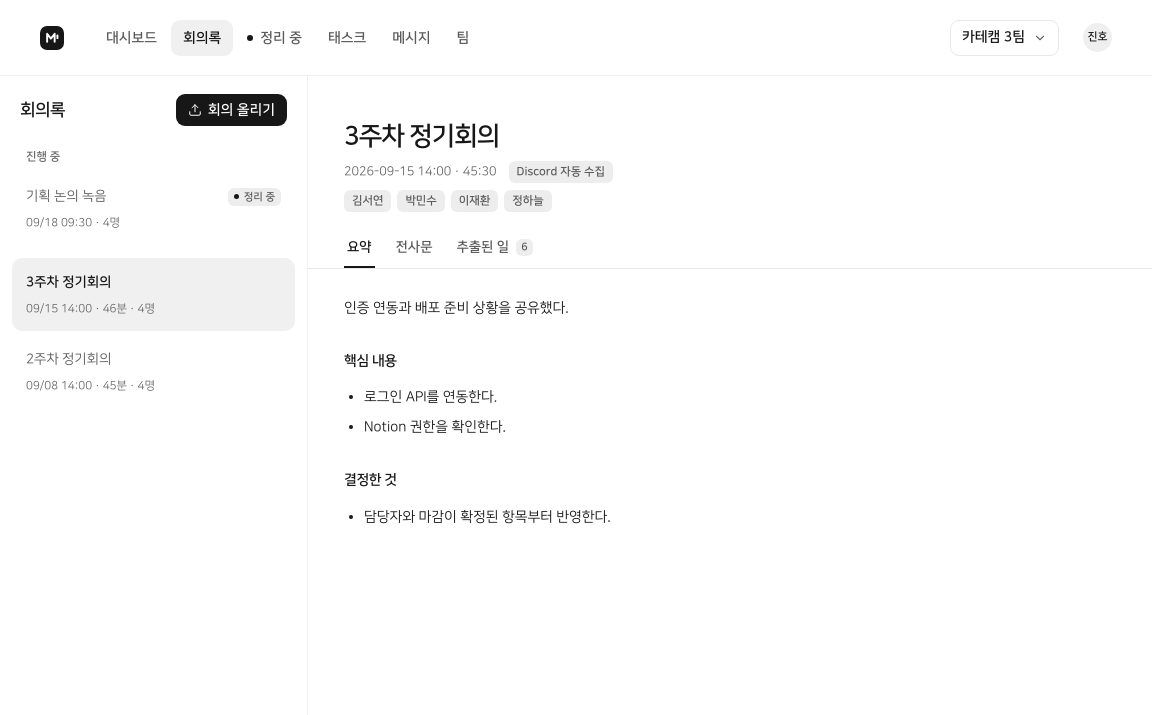
회의록 상세 (U5-3) › 제목·날짜·참석자·출처·요약·전사문·반영 태스크를 보인다
Expected: the heading "3주차 정기회의" is shown, [344,122,499,151]
Expected: the text "2026-09-15 14:00 · 45:30" is shown, [344,161,497,182]
What coordinates should you click on to do the following:
click the tab "전사문"
I would click on:
 (414, 249)
Its box is [393,230,436,268].
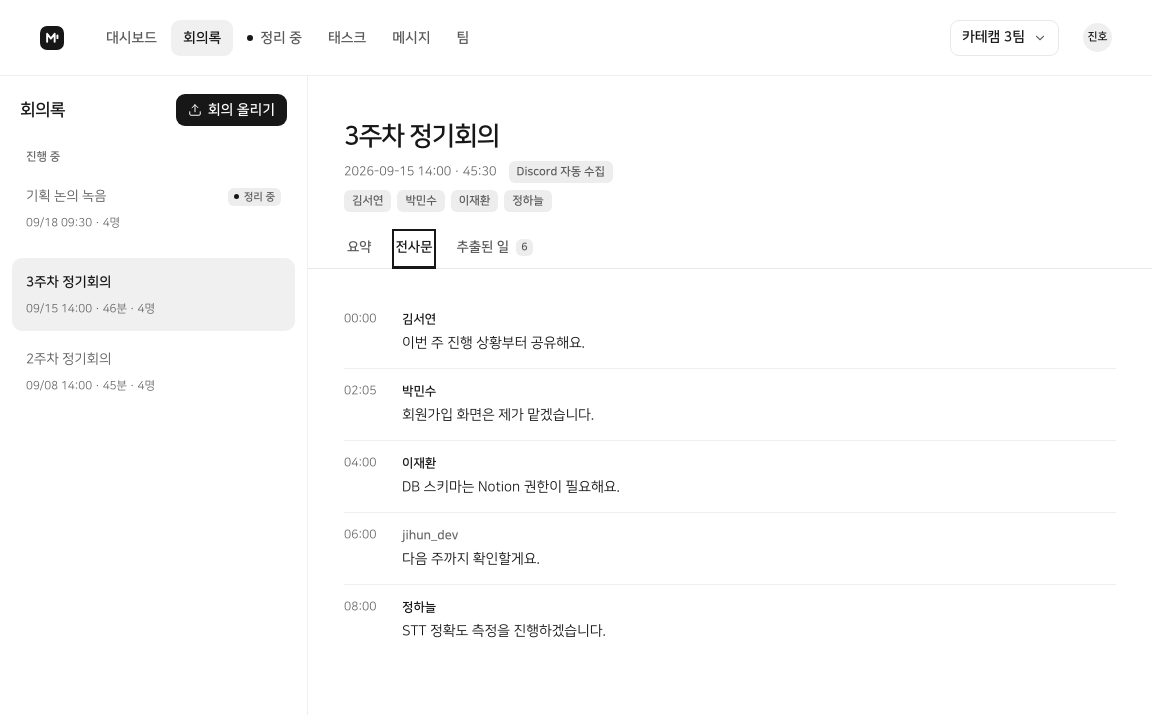
Now the text "회원가입 화면은 제가 맡겠습니다." is shown, box [402,407,594,423]
Now the text "02:05" is shown, box [344,384,376,397]
Now the text "jihun_dev" is shown, box [402,528,458,542]
What coordinates should you click on to do the following:
click the tab "추출된 일 6"
I would click on:
 (495, 249)
Its box is [453,230,536,268].
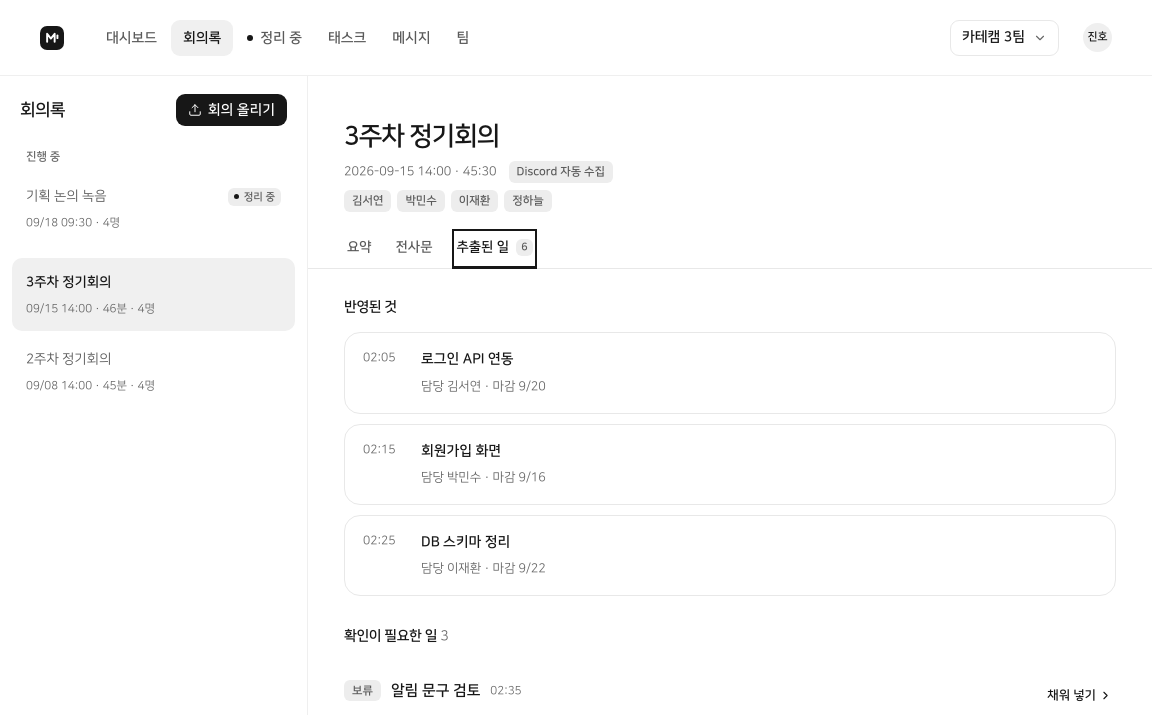
Now the link "로그인 API 연동" is shown, box [421,348,514,372]
Now the text "담당 김서연 · 마감 9/20" is shown, box [421,379,546,393]
